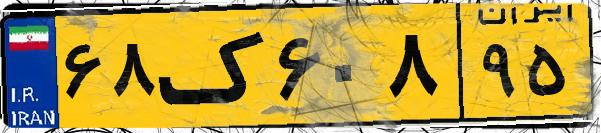0: (330, 28, 385, 110)
5: (525, 38, 570, 115)
6: (270, 28, 330, 110), (57, 26, 110, 100)
8: (385, 28, 445, 110), (110, 28, 158, 98)
9: (475, 38, 525, 113)
ک: (158, 12, 270, 120)
